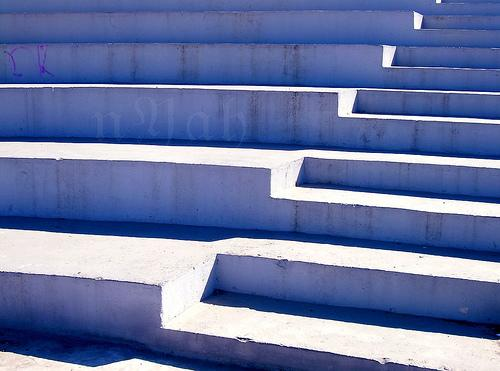Bench: (165, 0, 499, 356)
